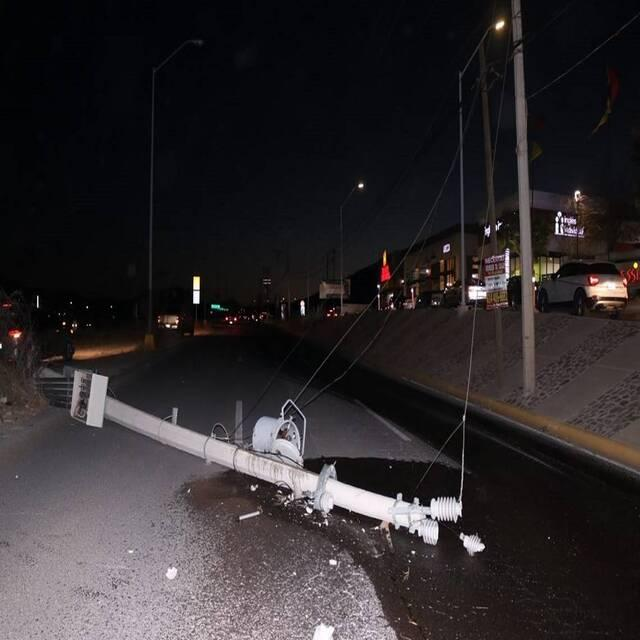Inclined Pole: (65, 358, 471, 551)
